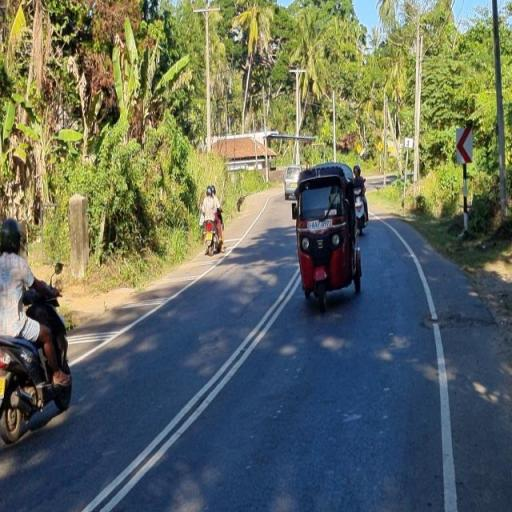double_white_line: (77, 273, 300, 512)
